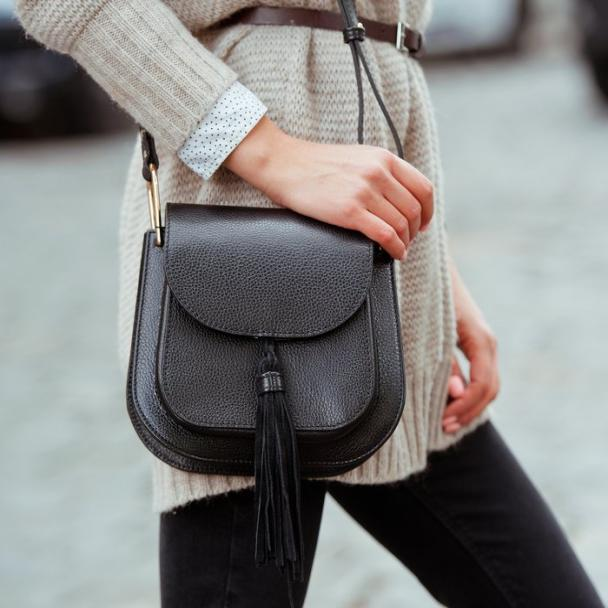Tas: (130, 199, 410, 479)
